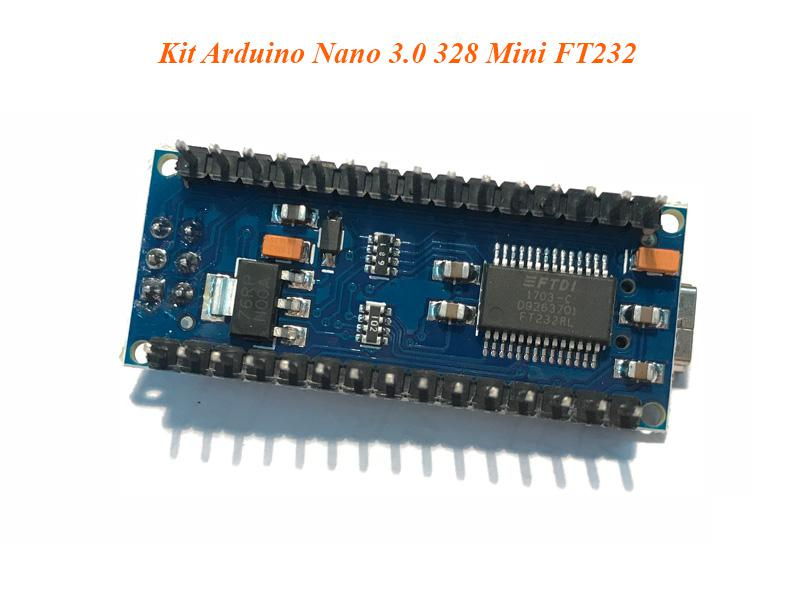Arduino_Nano: (117, 140, 707, 435)
